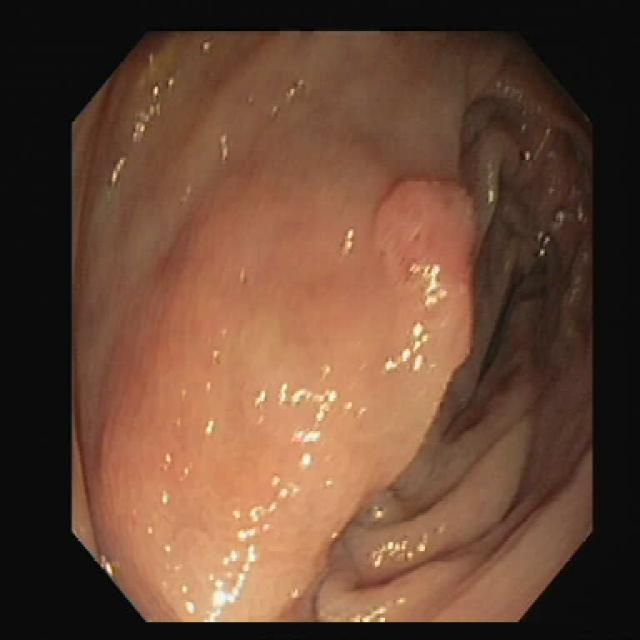tumor: (115, 102, 470, 618)
